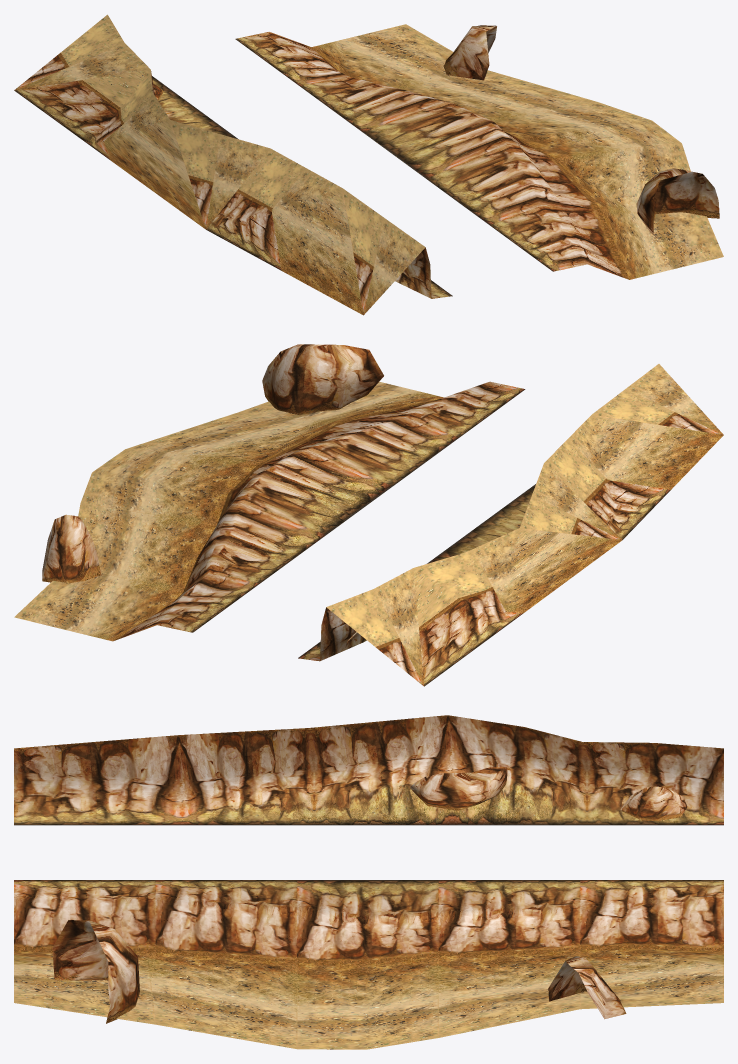
The model's file is us_cany_mid_03.fbx.
3 renders of one model, top to bottom at view 1: azimuth 30°, elevation 25°; view 2: azimuth 150°, elevation 25°; view 3: azimuth 270°, elevation 25°, orthographic. The views are drawn at different scales.
Parts seen in each view (by area): view 1: us_cany_mid_03; view 2: us_cany_mid_03; view 3: us_cany_mid_03.
Part boxes in pixels (x1,y1,x2,y2): us_cany_mid_03: (14,14,723,315); us_cany_mid_03: (14,344,723,686); us_cany_mid_03: (14,715,723,1049).
Bounding box in the file's own units: 8676 × 1599 × 10000.
